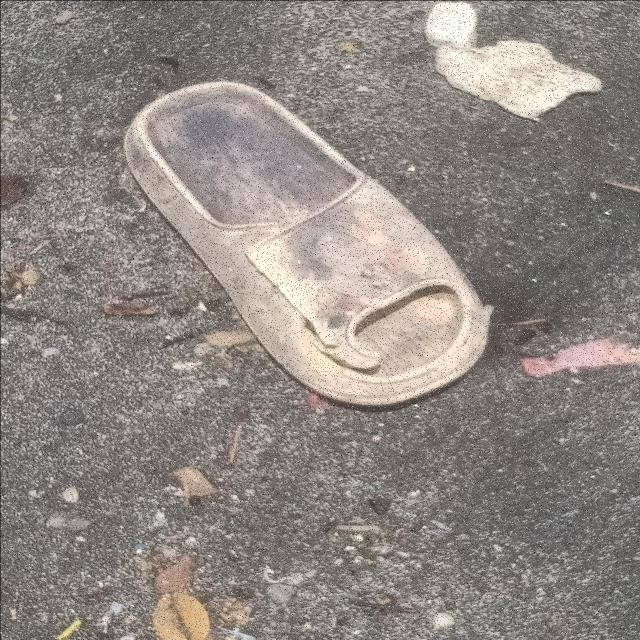rubber_waste: (123, 80, 499, 409)
